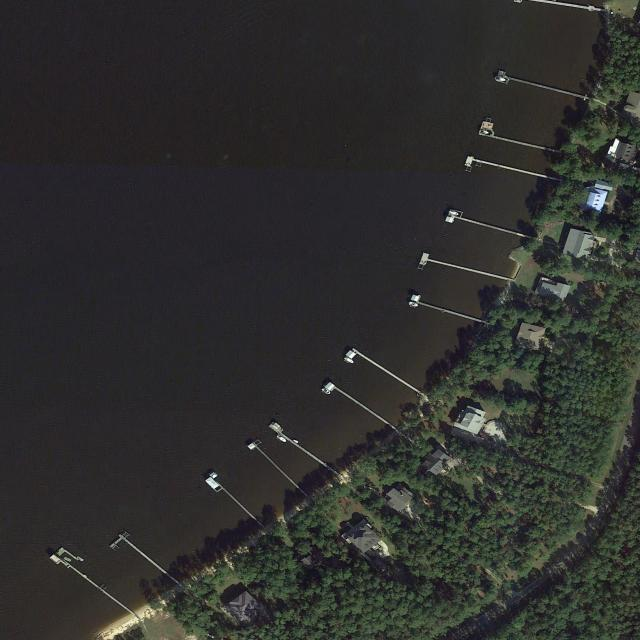ship: (275, 434, 288, 443), (343, 356, 355, 365), (493, 76, 507, 83), (407, 301, 420, 308), (321, 387, 332, 395), (447, 210, 460, 216), (63, 556, 72, 563), (478, 129, 489, 134), (293, 440, 300, 444)
